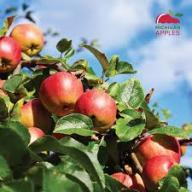apple: (36, 72, 83, 115), (76, 86, 116, 126), (132, 133, 178, 163), (136, 154, 176, 186), (10, 24, 44, 55), (16, 102, 49, 126), (17, 125, 45, 146)
